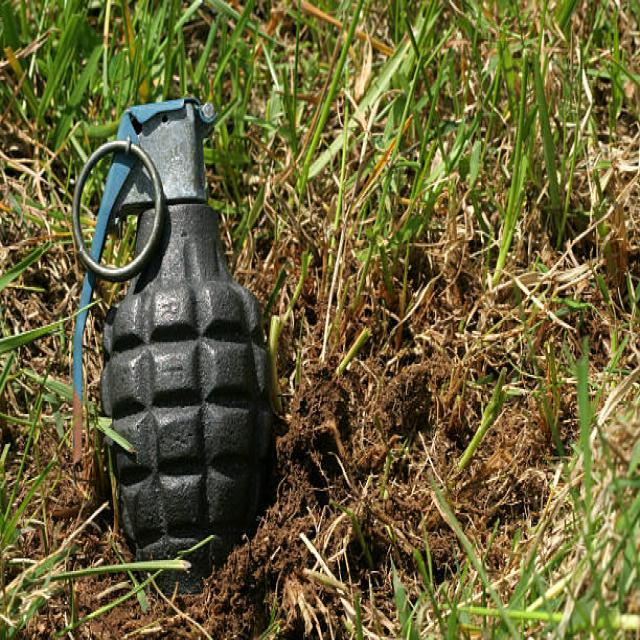grenade: (64, 91, 289, 605)
